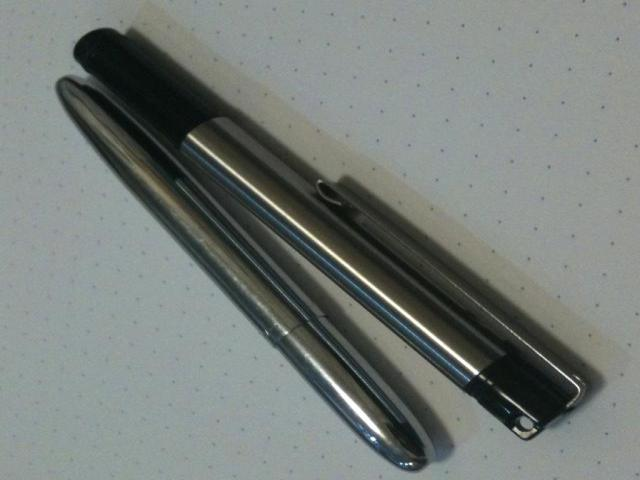PEN: (0, 61, 488, 480)
